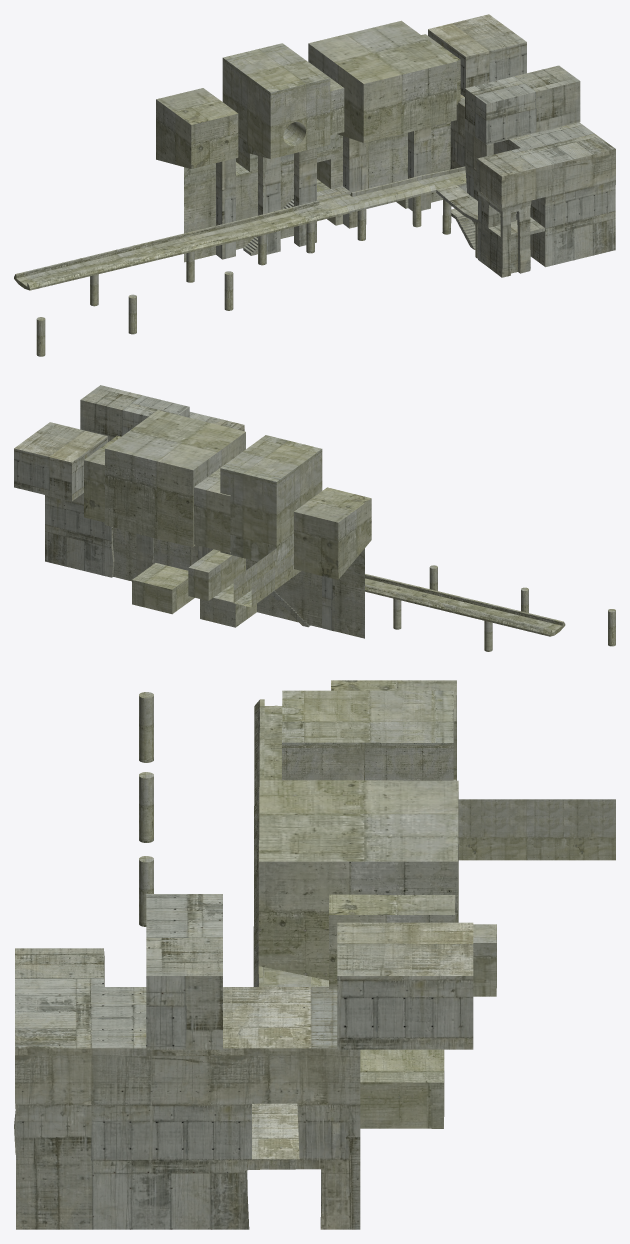
3 views of the same model, one above another, from view 1: azimuth 30°, elevation 25°; view 2: azimuth 150°, elevation 25°; view 3: azimuth 270°, elevation 25° (orthographic). The views are drawn at different scales.
Visible parts, largest first — view 1: SM_HK_03_05; view 2: SM_HK_03_05; view 3: SM_HK_03_05.
Boxes of the visible parts, x1,y1,x2,y2 form: SM_HK_03_05: (14, 14, 615, 356); SM_HK_03_05: (14, 385, 615, 651); SM_HK_03_05: (14, 680, 615, 1229).
Size of the model in its own units: 9148 by 2758 by 4907.
